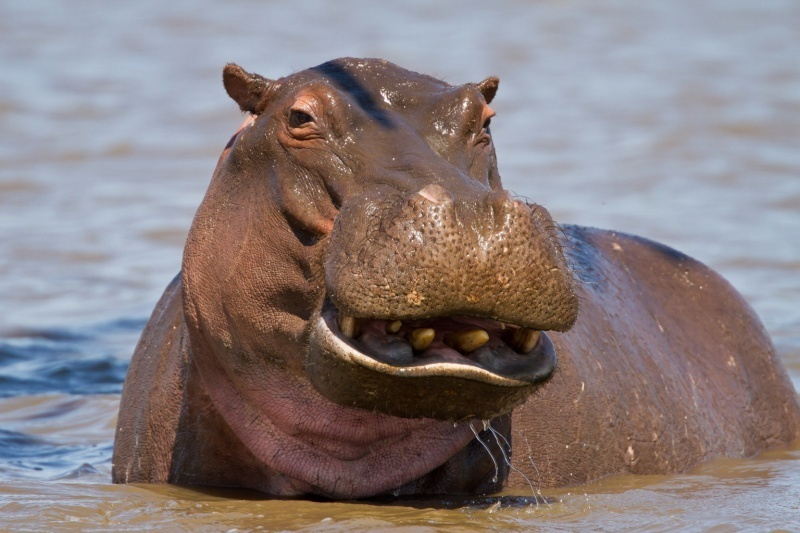hipopotamo: (103, 50, 800, 494)
